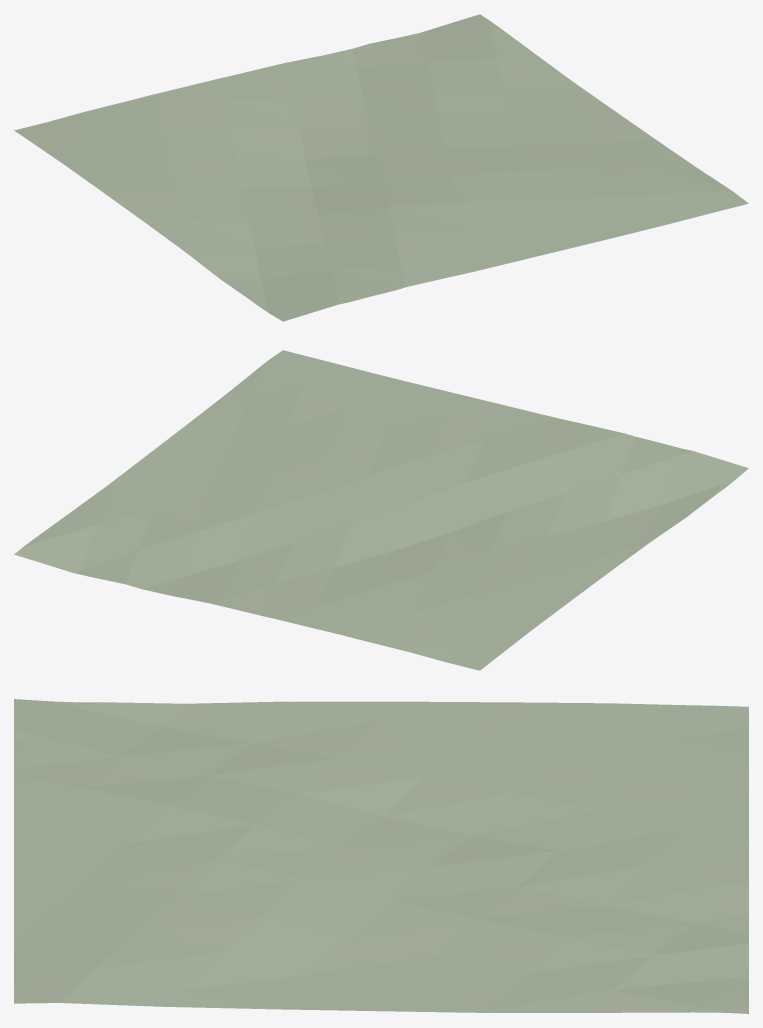
The model's file is SM_MPRR_Terrain_0_-3.fbx.
The picture shows the model from 3 angles, top to bottom: view 1: azimuth 30°, elevation 25°; view 2: azimuth 150°, elevation 25°; view 3: azimuth 270°, elevation 25°; orthographic projection. The views are drawn at different scales.
Parts seen in each view (by area): view 1: SM_MPRR_Terrain_0_-3; view 2: SM_MPRR_Terrain_0_-3; view 3: SM_MPRR_Terrain_0_-3.
Boxes of the visible parts, box(x1,y1,x2,y2) form: SM_MPRR_Terrain_0_-3: box(14, 14, 748, 321); SM_MPRR_Terrain_0_-3: box(14, 350, 748, 670); SM_MPRR_Terrain_0_-3: box(14, 699, 748, 1013).
Bounding box in the file's own units: 15000 × 15000 × 373.
